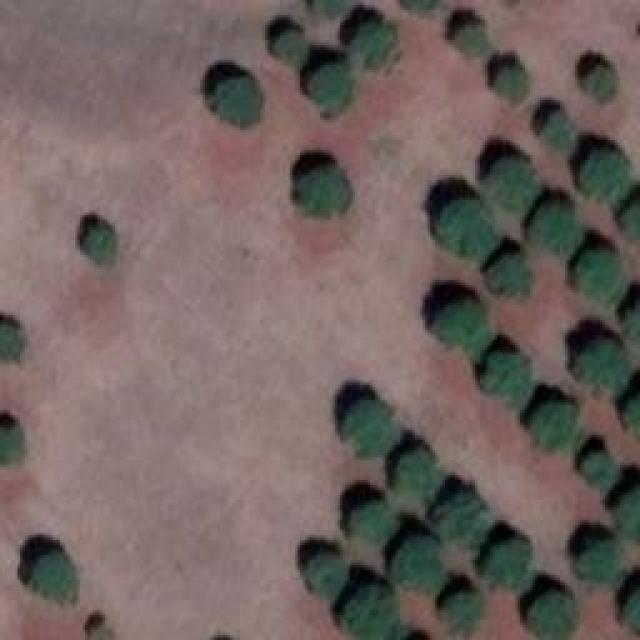Tree: (342, 577, 397, 640), (343, 400, 396, 458), (430, 295, 485, 350), (208, 73, 263, 126), (300, 163, 353, 218), (440, 200, 493, 255), (575, 335, 628, 390), (573, 153, 628, 203), (393, 530, 438, 590), (430, 485, 480, 538), (530, 585, 578, 640), (580, 245, 625, 303), (483, 535, 533, 585), (533, 197, 576, 255), (310, 58, 355, 113), (30, 545, 75, 598), (480, 343, 525, 396), (345, 492, 393, 540), (490, 158, 533, 211), (528, 403, 573, 453), (393, 443, 433, 493), (353, 20, 396, 65), (493, 250, 533, 295), (302, 548, 340, 593), (582, 538, 620, 583), (275, 25, 310, 70), (490, 60, 528, 100), (445, 590, 480, 630), (83, 227, 118, 265), (452, 23, 490, 58), (580, 447, 615, 485), (0, 420, 30, 463), (540, 113, 570, 153), (588, 63, 618, 103), (620, 488, 640, 543), (622, 195, 640, 243), (622, 585, 640, 633), (625, 385, 640, 440), (0, 320, 22, 357), (308, 0, 343, 18)
